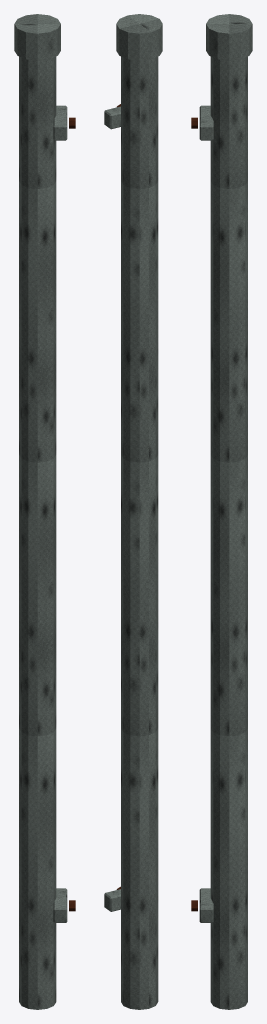
The model's file is chainlink_terminal_post.glb.
3 views of the same model, side by side, from view 1: azimuth 90°, elevation 25°; view 2: azimuth 210°, elevation 25°; view 3: azimuth 270°, elevation 25° (orthographic).
Parts seen in each view (by area): view 1: terminal_post; view 2: terminal_post; view 3: terminal_post.
Part boxes in pixels (left/top/right/bottom): terminal_post: left=14, top=14, right=75, bottom=1009; terminal_post: left=104, top=14, right=162, bottom=1009; terminal_post: left=191, top=14, right=252, bottom=1009.
Bounding box in the file's own units: 0.074 × 1.62 × 0.092.
2 materials, 2 textured.
